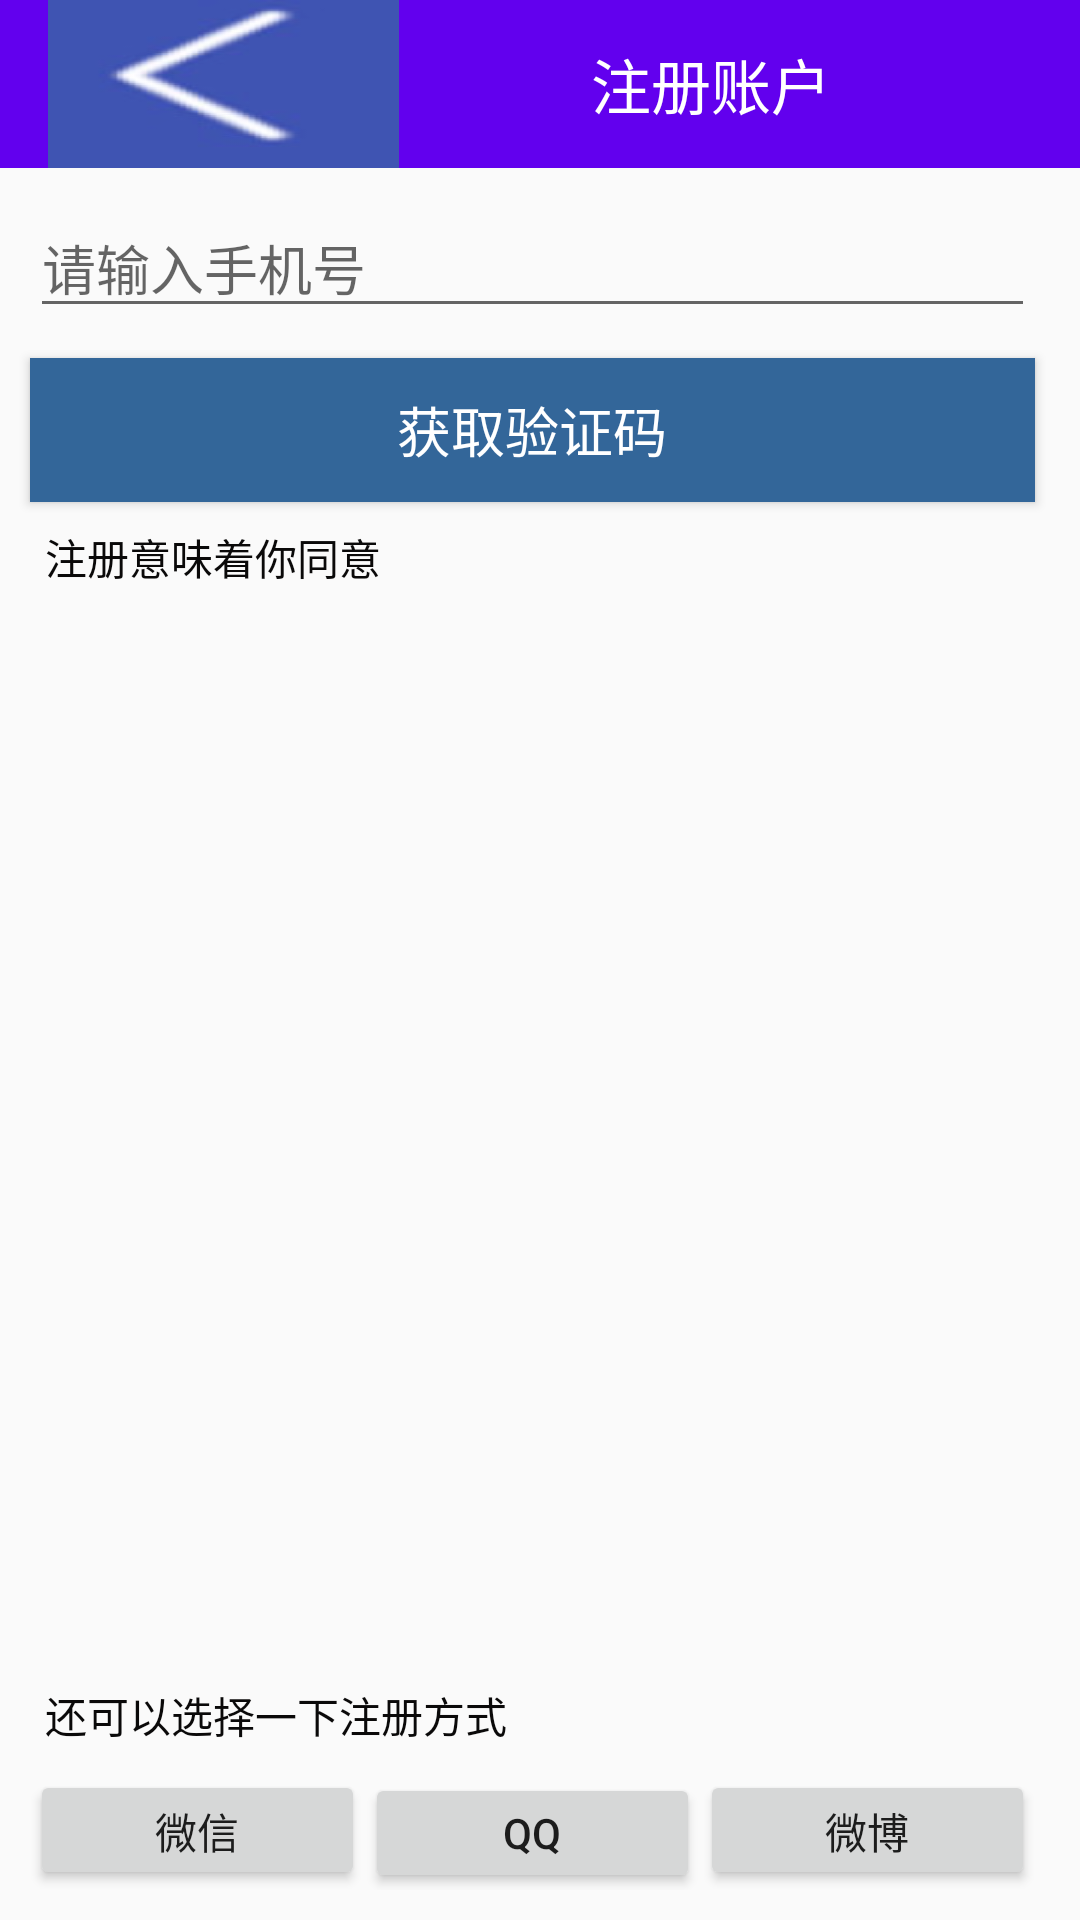

Point at icon controls on the screen. Image size 1080 x 1920, points as [x,y].
arrow back: [223,84]
